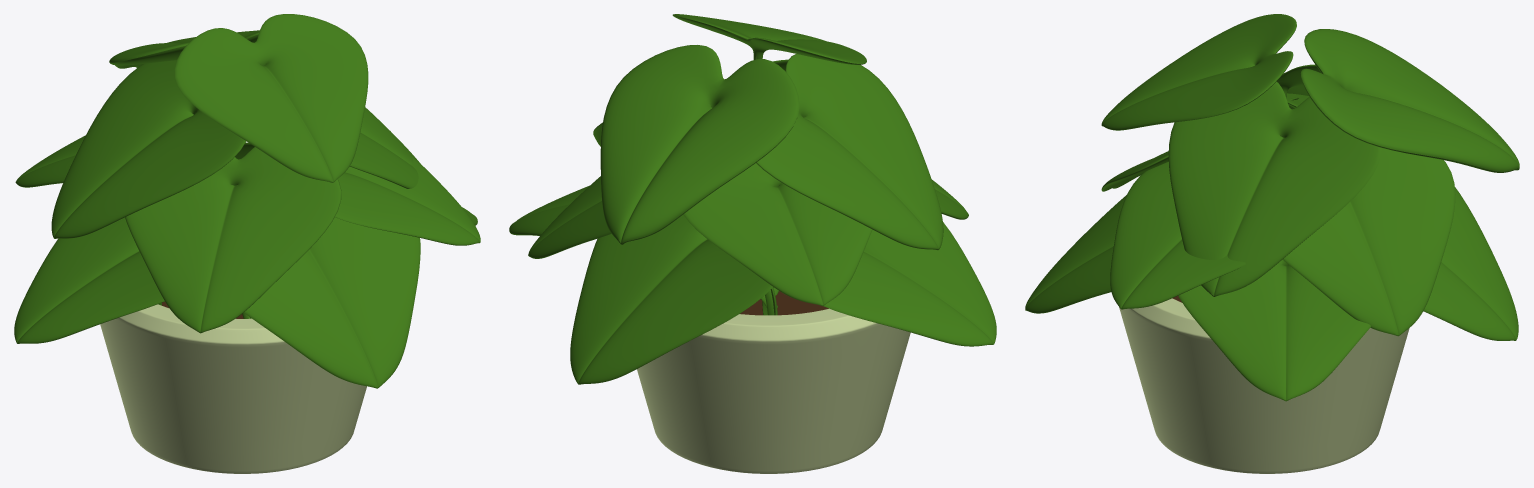
The model's file is Plant_One.fbx.
The picture shows the model from 3 angles, left to right: view 1: azimuth 30°, elevation 25°; view 2: azimuth 150°, elevation 25°; view 3: azimuth 270°, elevation 25°; orthographic projection. The views are drawn at different scales.
Visible parts, largest first — view 1: Pot, Plane.006, Plane.011, Plane.002, Plane.010, Plane.001, Plane.007, Plane.008, Plane.009, Plane.005; view 2: Pot, Plane.009, Plane.010, Plane, Plane.005, Plane.001, Plane.011, Plane.004, Plane.003, Plane.006, Plane.008; view 3: Pot, Plane.008, Plane.004, Plane.009, Plane.003, Plane.011, Plane.007, Plane, Plane.002, Plane.006, Plane.010.
Part boxes in pixels (x1,y1,x2,y2): Pot: (100, 301, 366, 473); Plane.006: (125, 147, 341, 333); Plane.011: (174, 14, 368, 182); Plane.002: (244, 217, 420, 388); Plane.010: (51, 60, 246, 238); Plane.001: (14, 217, 164, 343); Plane.007: (335, 156, 480, 245); Plane.008: (349, 107, 420, 188); Plane.009: (109, 30, 259, 318); Plane.005: (15, 135, 85, 187); Pot: (637, 291, 910, 473); Plane.009: (600, 45, 799, 307); Plane.010: (756, 54, 943, 250); Plane: (570, 215, 772, 384); Plane.005: (683, 163, 872, 315); Plane.001: (823, 222, 996, 346); Plane.011: (672, 14, 866, 64); Plane.004: (528, 176, 766, 307); Plane.003: (509, 185, 589, 235); Plane.006: (931, 179, 968, 219); Plane.008: (593, 59, 787, 315); Pot: (1119, 296, 1409, 473); Plane.008: (1168, 81, 1381, 296); Plane.004: (1283, 147, 1455, 336); Plane.009: (1300, 29, 1519, 172); Plane.003: (1178, 259, 1370, 401); Plane.011: (1101, 14, 1296, 130); Plane.007: (1110, 161, 1245, 309); Plane: (1423, 187, 1518, 340); Plane.002: (1025, 195, 1126, 313); Plane.006: (1101, 97, 1298, 191); Plane.010: (1277, 64, 1320, 109).
Bounding box in the file's own units: 2.17 × 1.99 × 1.75.
